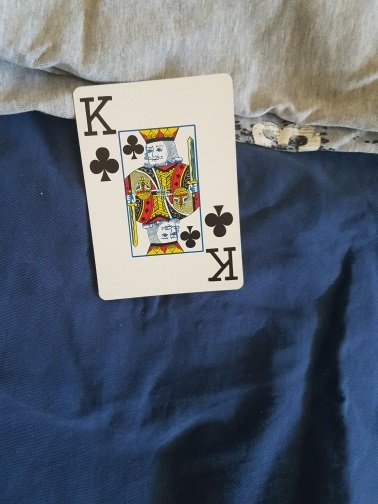king: (73, 74, 244, 299)
